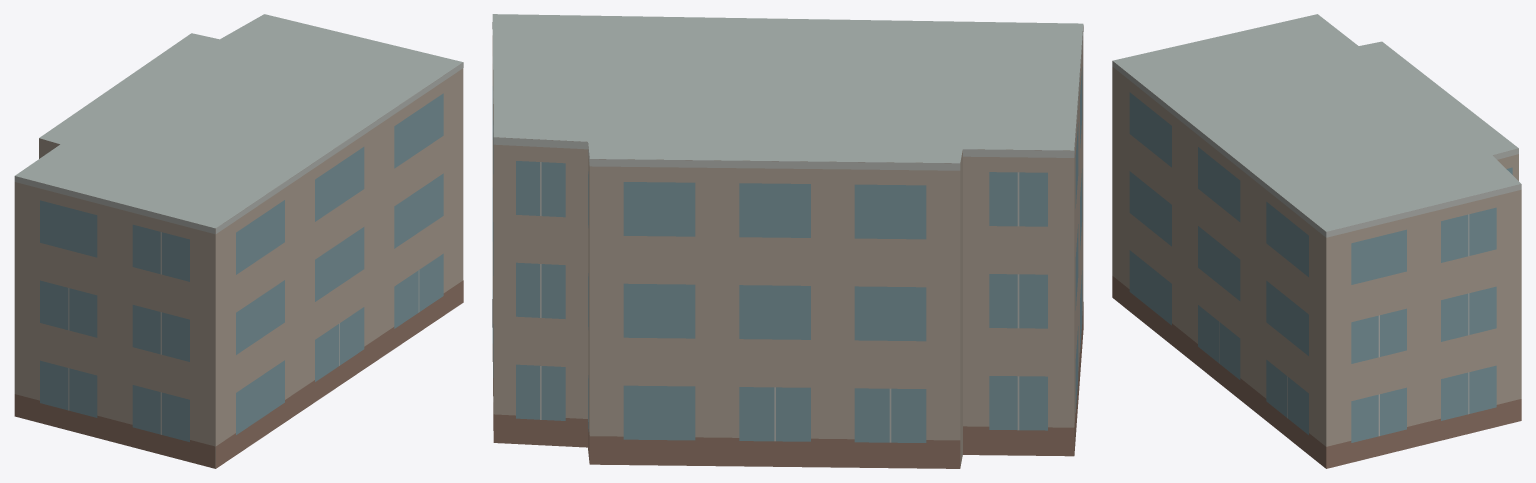
File: survey-upis-32804713.glb
The picture shows the model from 3 angles, left to right: view 1: azimuth 30°, elevation 25°; view 2: azimuth 150°, elevation 25°; view 3: azimuth 270°, elevation 25°; orthographic projection. The views are drawn at different scales.
Parts seen in each view (by area): view 1: survey-upis-32804713.tmp; view 2: survey-upis-32804713.tmp; view 3: survey-upis-32804713.tmp.
Boxes of the visible parts, left/top/right/bottom form: survey-upis-32804713.tmp: left=14, top=14, right=463, bottom=468; survey-upis-32804713.tmp: left=492, top=14, right=1083, bottom=468; survey-upis-32804713.tmp: left=1112, top=14, right=1521, bottom=468.
Size of the model in its own units: 19.54 by 9.9 by 15.5.
